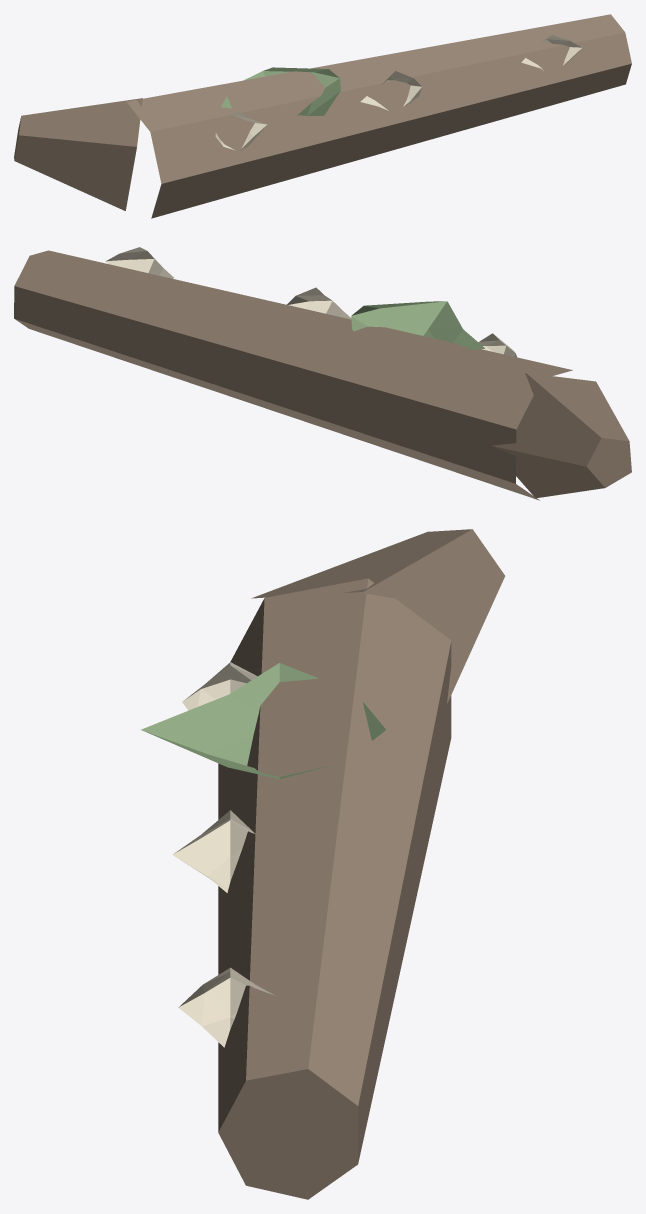
Rendered from log_v13.glb.
The picture shows the model from 3 angles, top to bottom: view 1: azimuth 30°, elevation 25°; view 2: azimuth 150°, elevation 25°; view 3: azimuth 270°, elevation 25°; orthographic projection. The views are drawn at different scales.
Parts seen in each view (by area): view 1: lod0; view 2: lod0; view 3: lod0.
Part boxes in pixels (x1=…): lod0: x1=14, y1=14, x2=631, y2=218; lod0: x1=14, y1=247, x2=631, y2=500; lod0: x1=141, y1=529, x2=504, y2=1199.
Size of what is drawn, in the model's own units: 2.56 by 0.5294 by 0.713.
